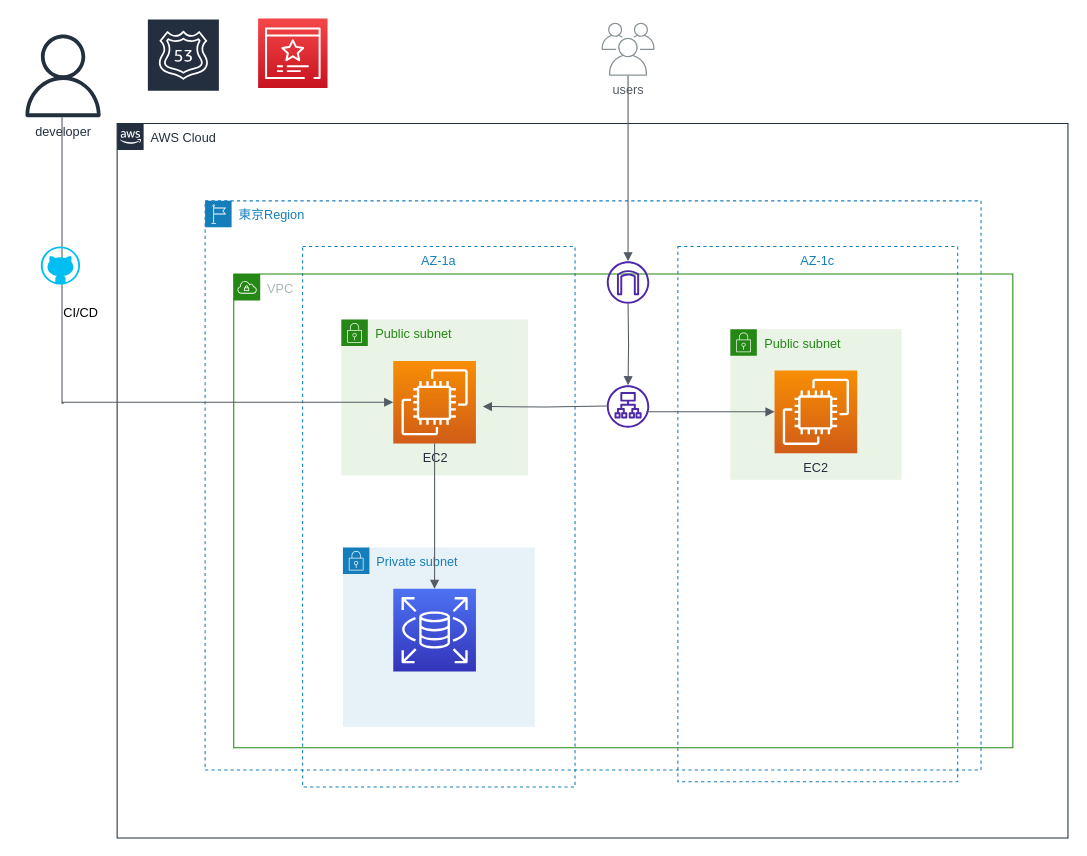
Some shapes in this 1087 by 856 pixel diagram are drawn without their labels. The shapes that lost their labels are listed below. From the top down, each one's centre as x and y in pixels, then its label:
At pixel 183 66: "Amazon Route 53".
At pixel 292 52: "Certificate Manager (ACM)".
At pixel 60 265: "GitHub Actions".
At pixel 627 282: "internet gateway".
At pixel 627 406: "Application load Balancer".
At pixel 434 630: "RDS".
